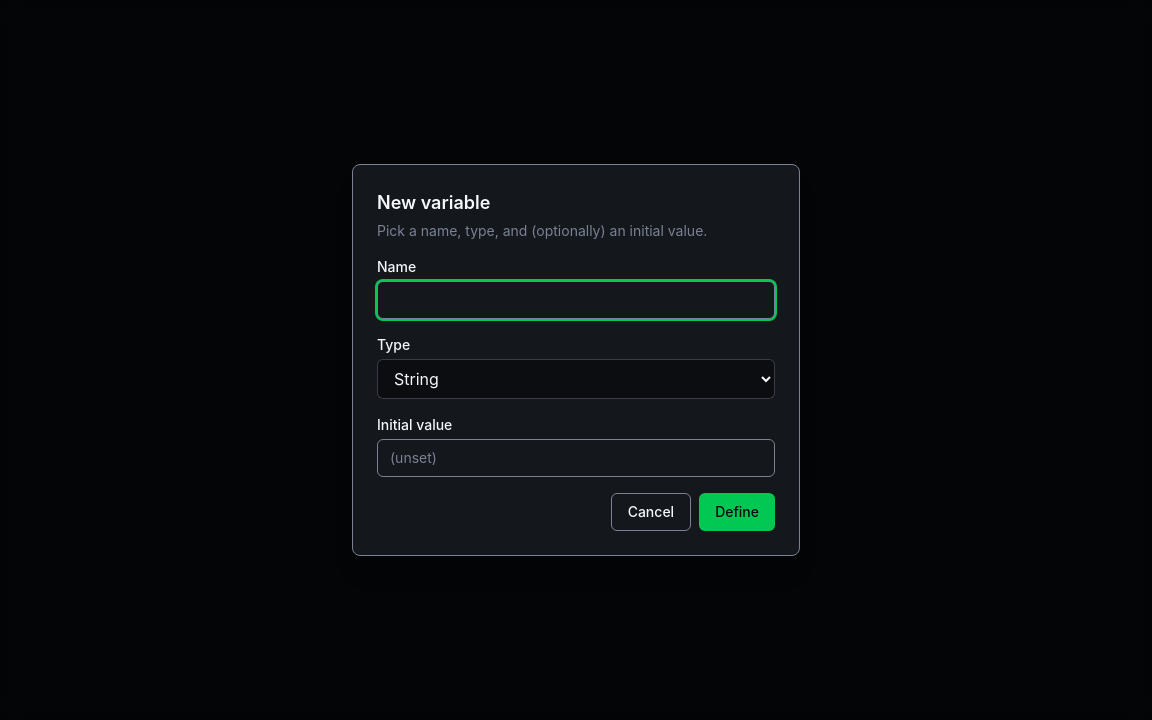
Test: SystemVariableDialog › Surfaces a validation error when the name does not match the grammar
Type "1bad" into the field labelled "Name". click: (576, 300)
box: [377,281,775,319]
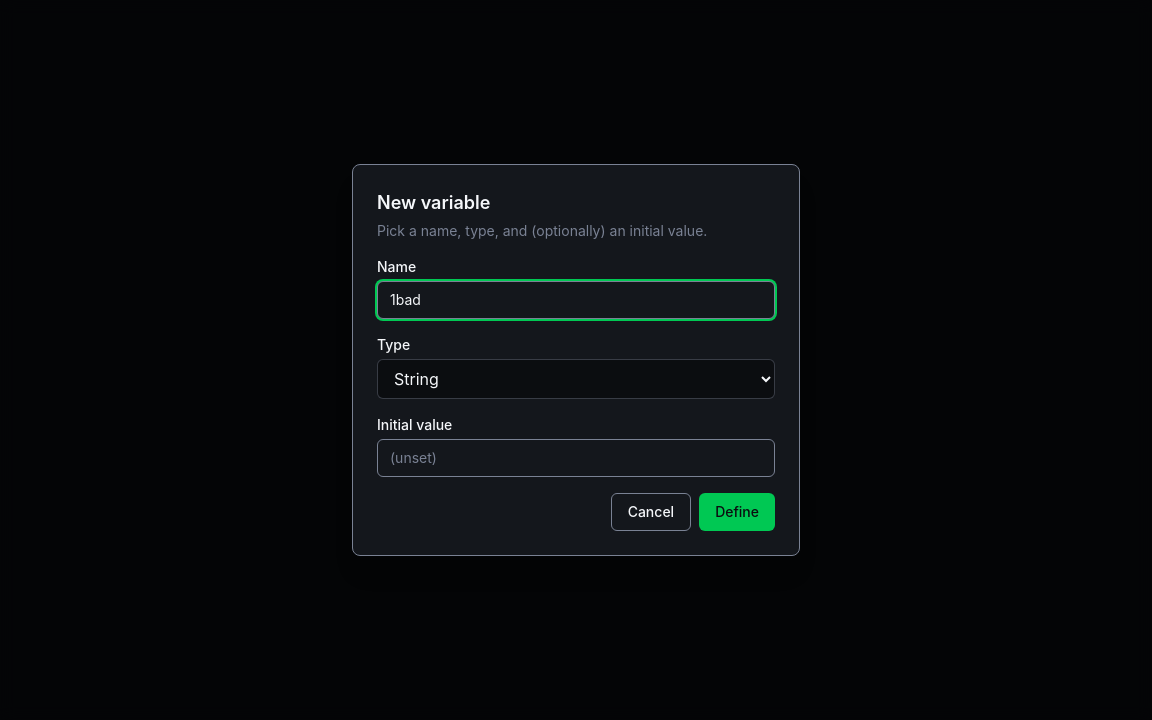
Click the button "Define". click: (737, 512)
box: [699,493,775,531]
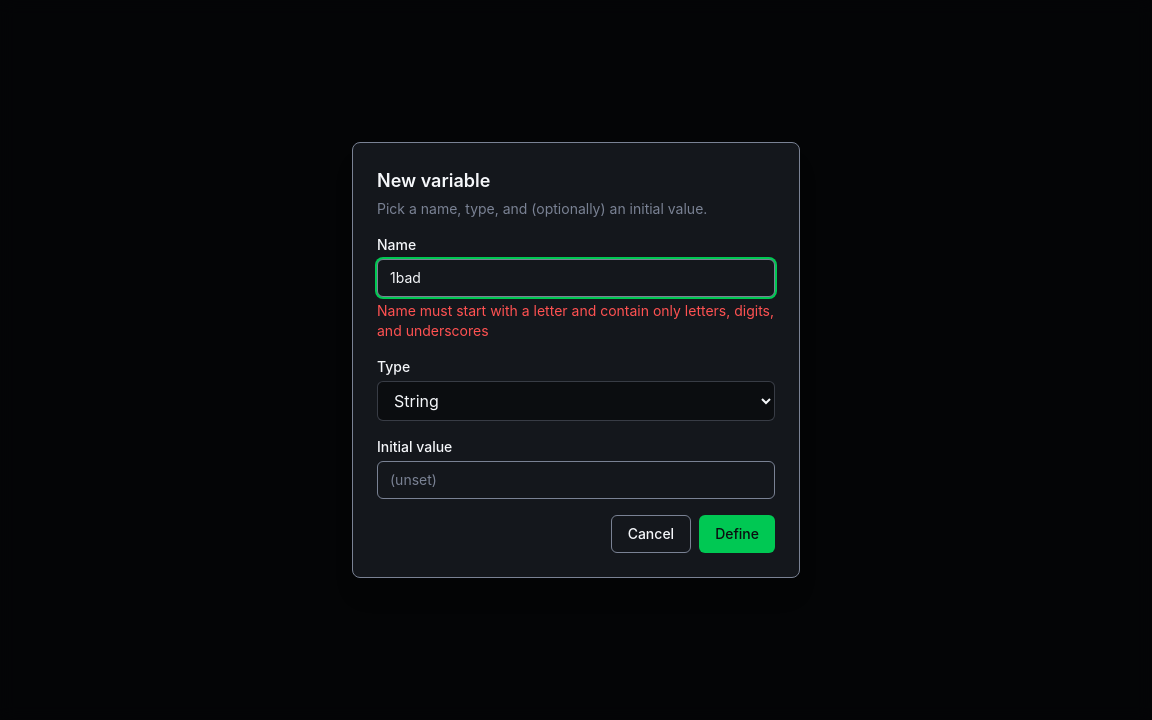
Expected: the text "must start with a letter" is shown, [377,302,774,339]
